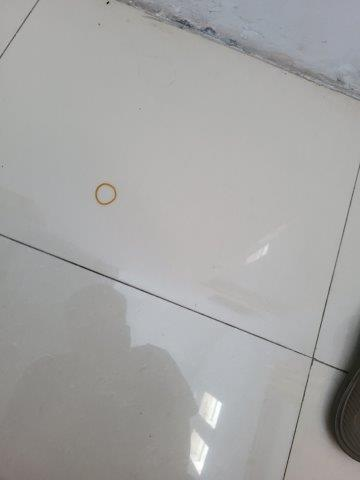karet: (93, 182, 118, 207)
